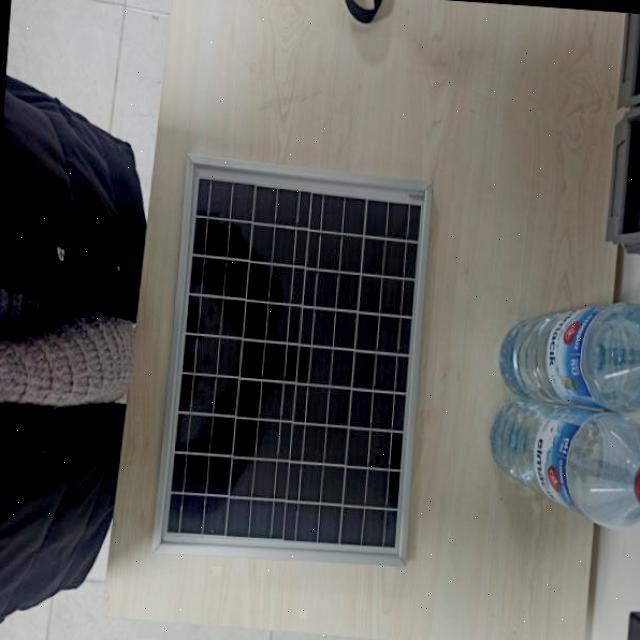Normal Solar Panel: (157, 156, 423, 558)
